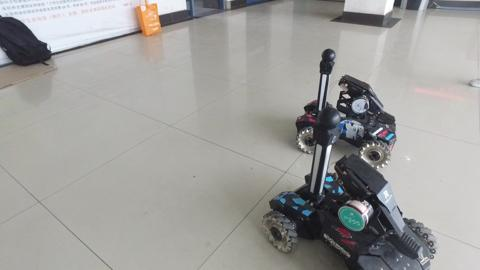chariot: (263, 111, 441, 270), (289, 48, 405, 171)
